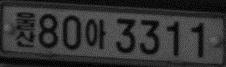0: (61, 14, 82, 50)
1: (163, 20, 185, 57), (189, 21, 210, 57)
3: (115, 17, 136, 54), (139, 18, 160, 55)
8: (37, 13, 58, 48)
아: (84, 18, 107, 49)
울산_V: (15, 10, 36, 48)
